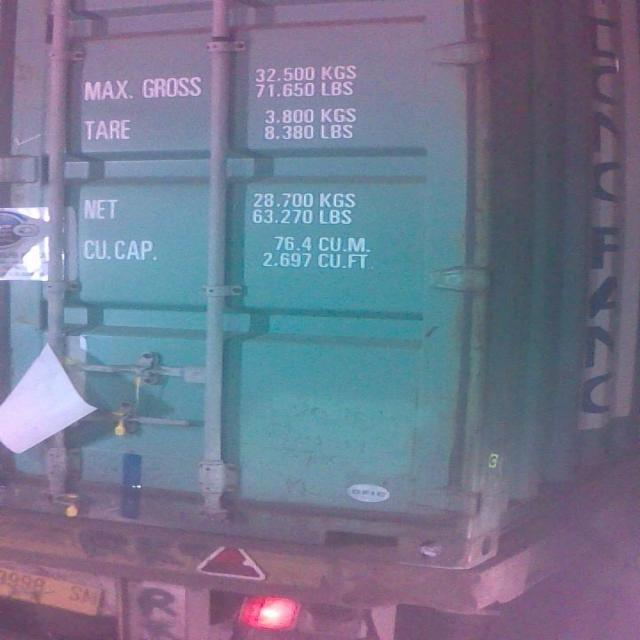seal: (130, 364, 149, 403), (110, 403, 134, 433), (64, 491, 83, 518)
